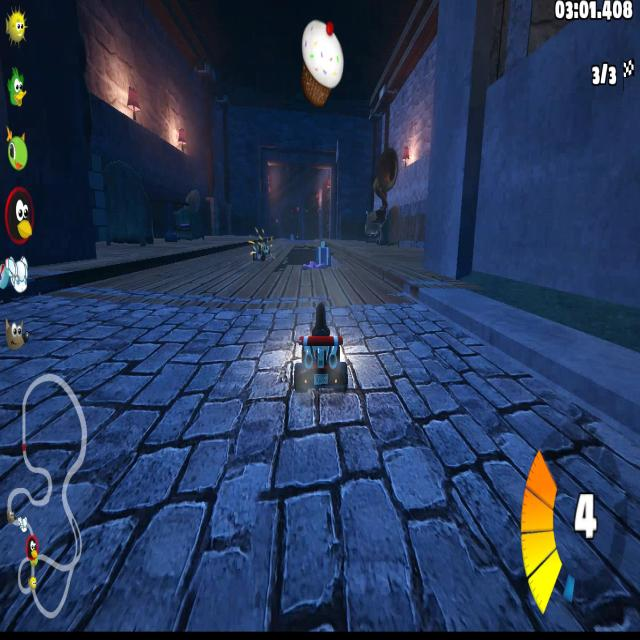bonus: (318, 238, 330, 265)
enemy_kart: (252, 236, 268, 266)
player_kart: (291, 294, 354, 413)
track: (0, 298, 291, 632), (456, 373, 640, 629), (356, 286, 455, 624), (292, 420, 356, 638), (123, 259, 250, 295), (251, 265, 355, 296), (356, 264, 402, 286), (273, 230, 286, 260)
